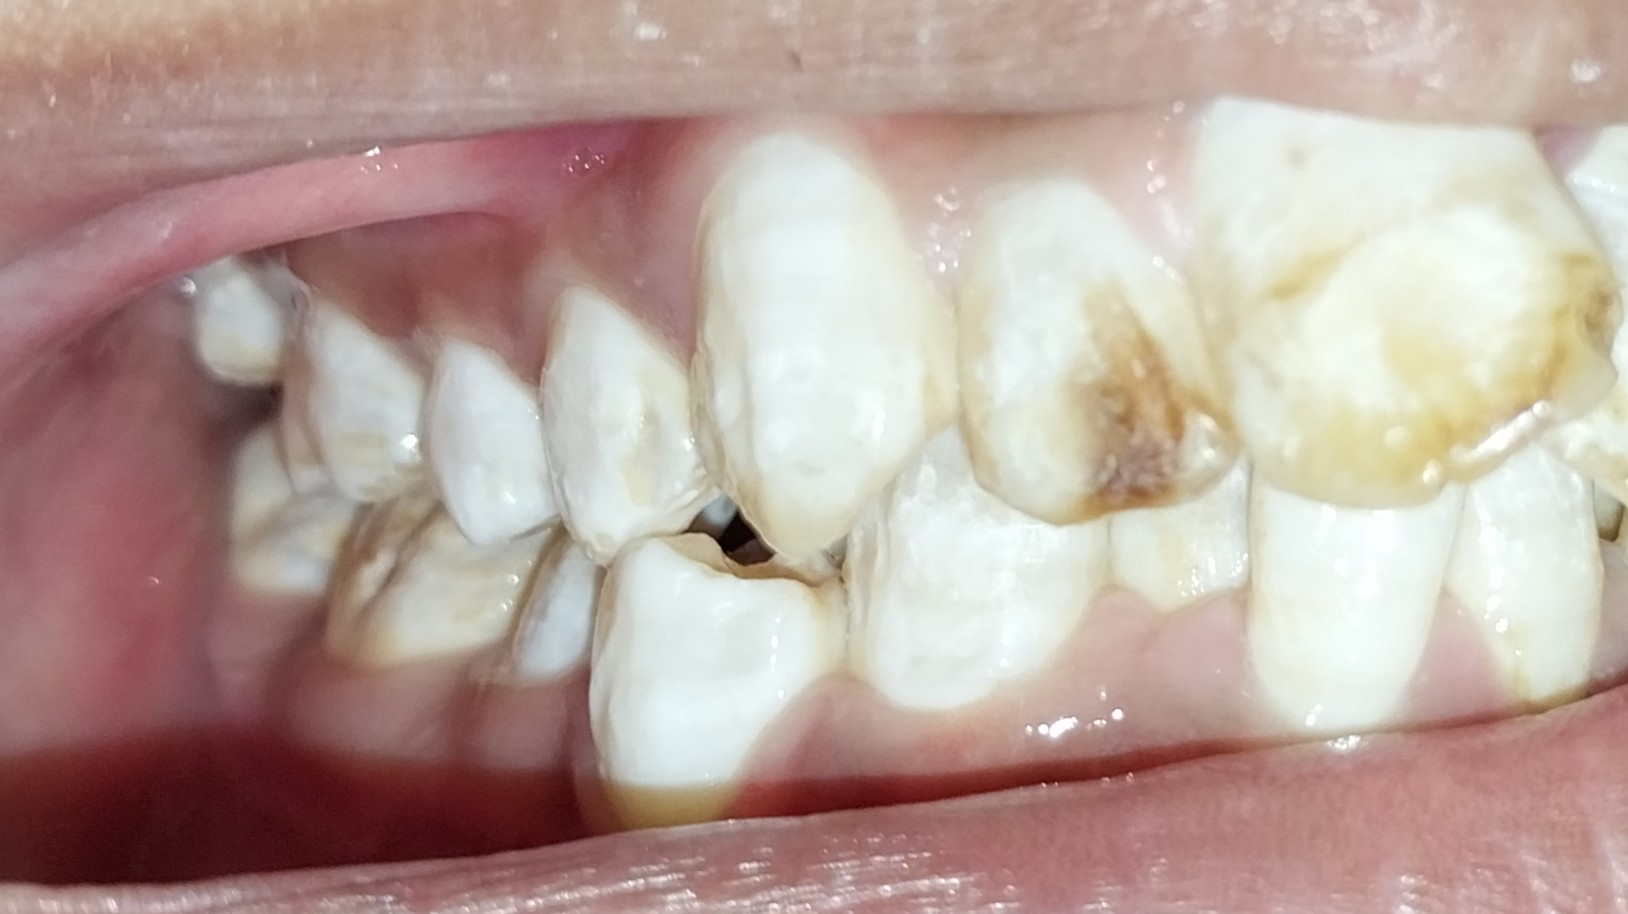D: (929, 148, 1247, 526)
